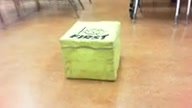cube: (59, 21, 121, 81)
